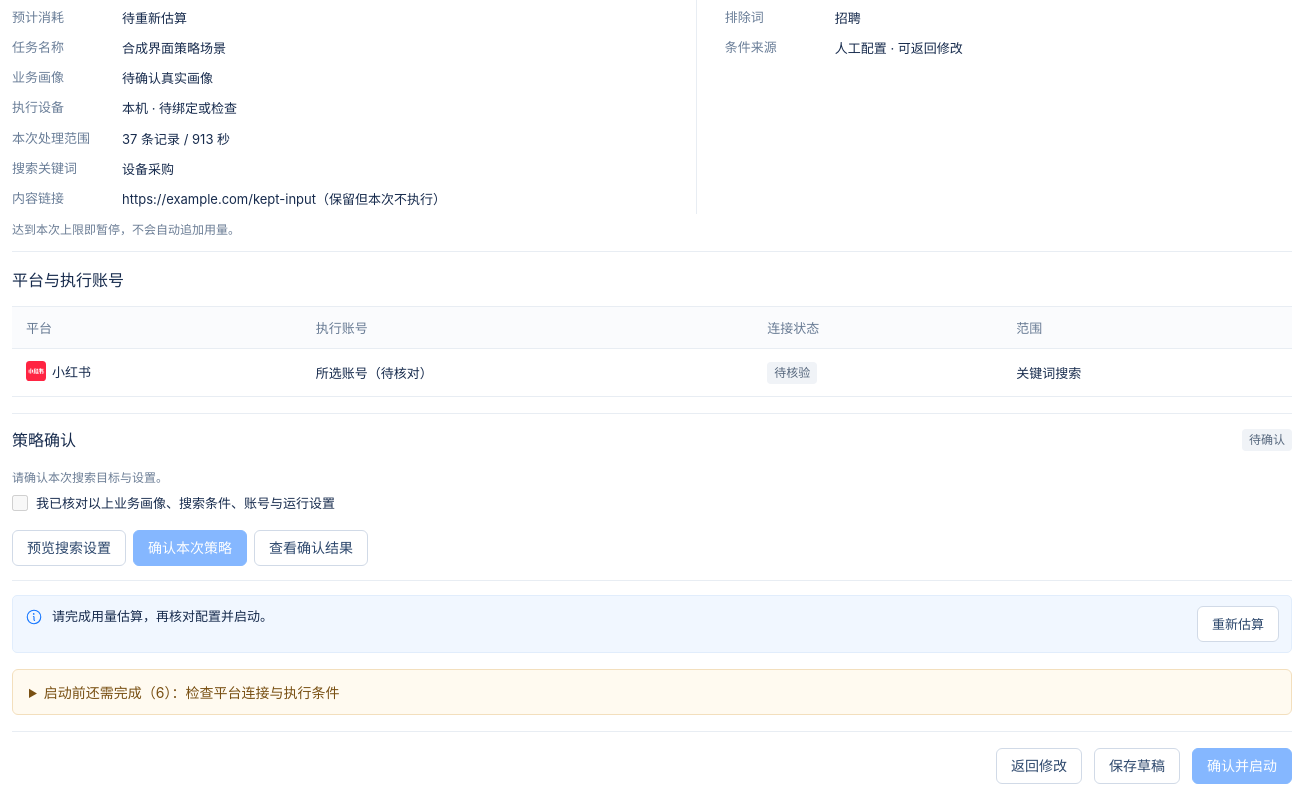
Test: TaskWizard strategy confirmation with the actual controller › estimates the actual confirmed strategy through the real quote service without persisting its token
(page scrolled)
Click the button "重新估算" at (1238, 624), box [1197, 606, 1279, 642]
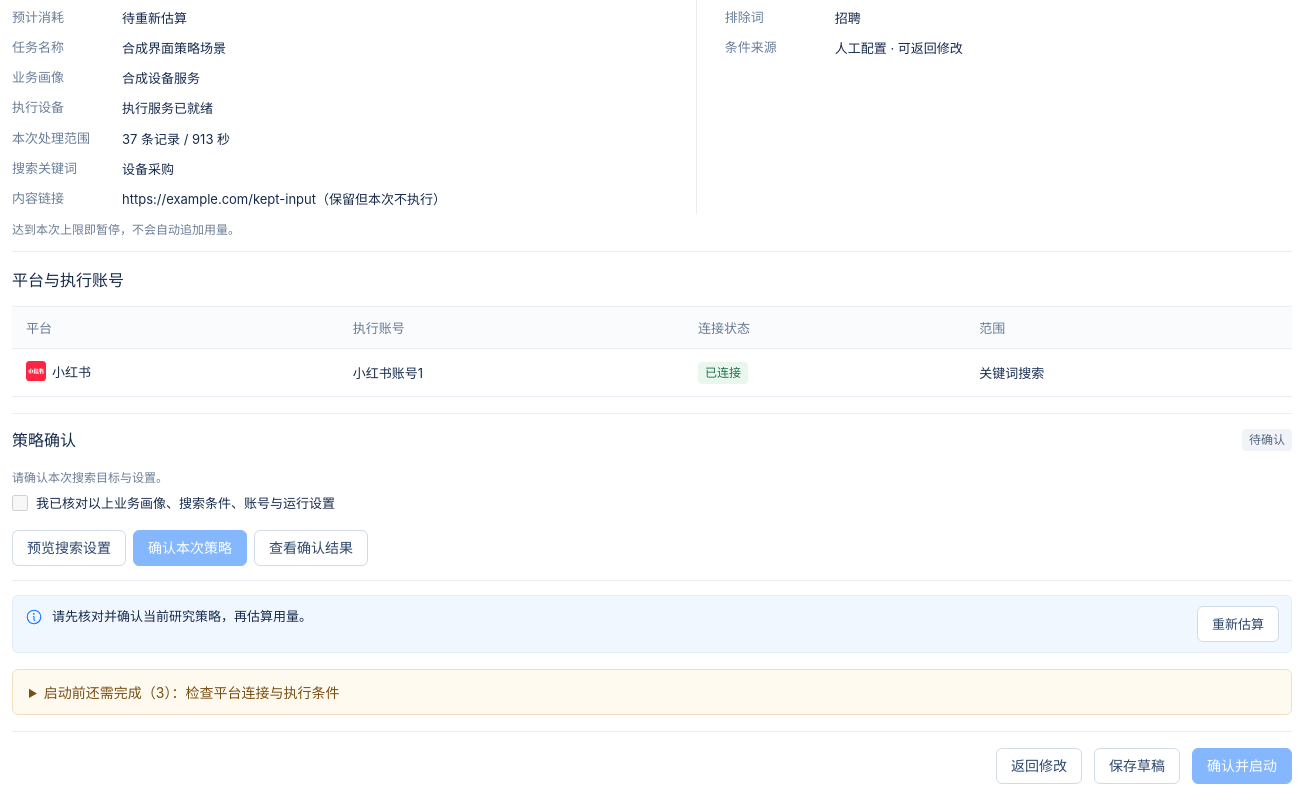
Expected: the text "请先核对并确认当前研究策略，再估算用量。" is shown, [52, 608, 312, 624]
Click the button "预览搜索设置" at (69, 548), box [12, 530, 126, 566]
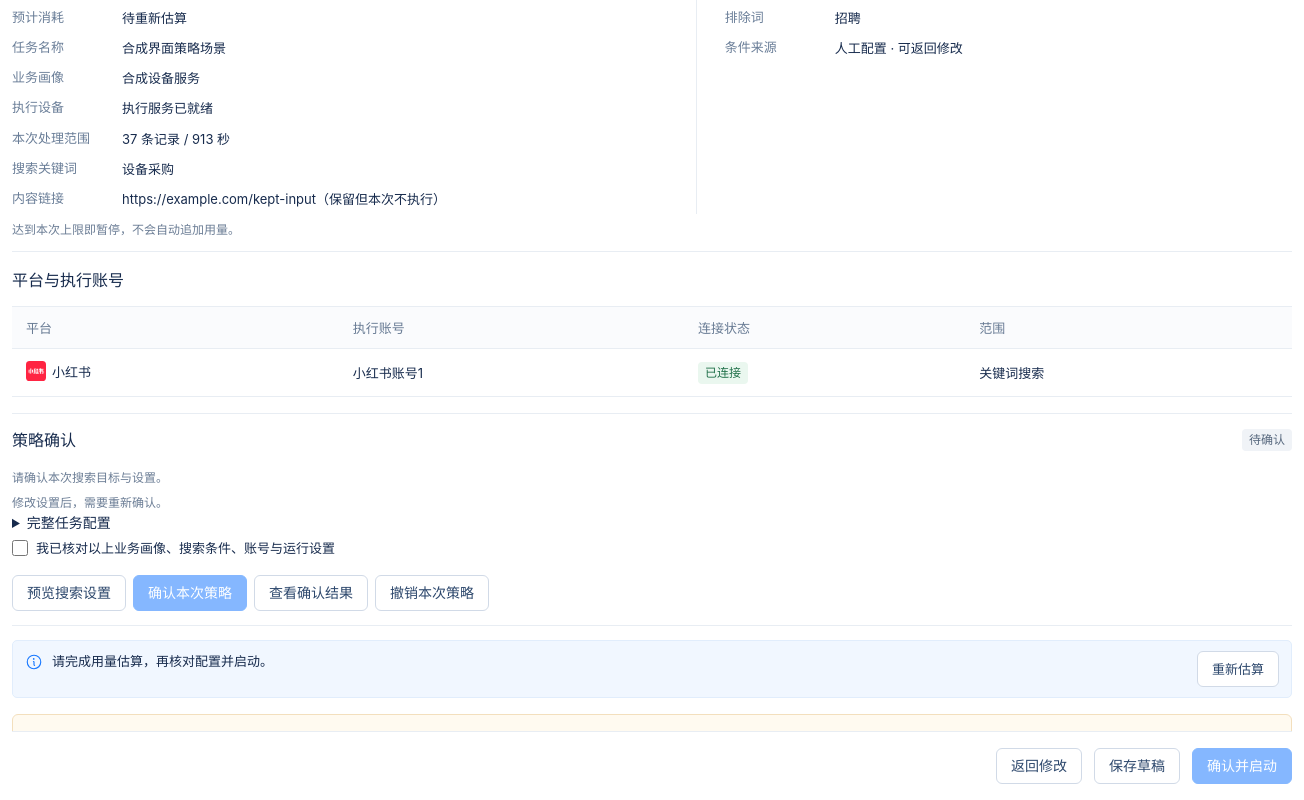
Expected: the button "确认本次策略" is disabled, [133, 575, 247, 611]
Expected: the heading "完整任务配置" is shown, [27, 514, 111, 531]
Click the checkbox labelled "我已核对以上业务画像、搜索条件、账号与运行设置" at (20, 548), box [12, 540, 28, 556]
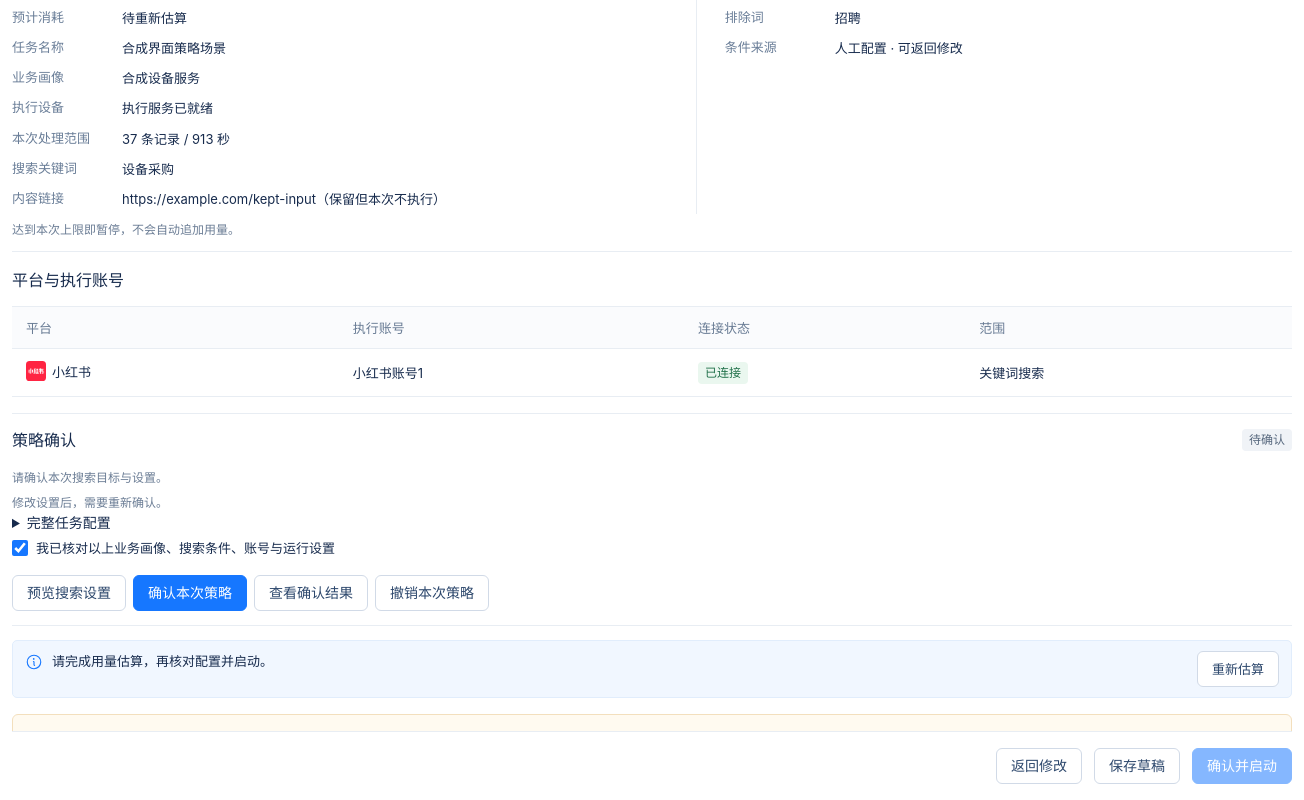
Expected: the button "确认本次策略" is enabled
Click the button "确认本次策略" at (190, 593), box [133, 575, 247, 611]
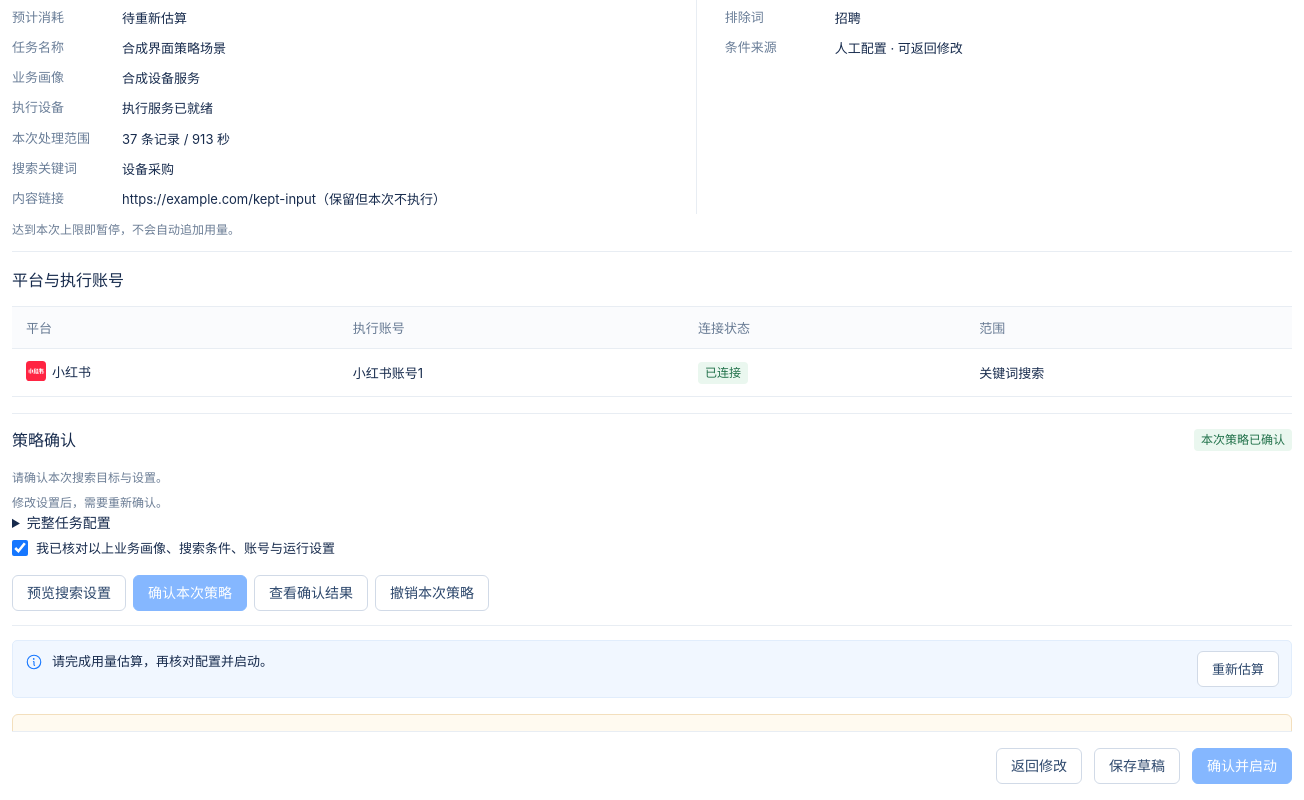
Expected: the button "确认并启动" is disabled, [1192, 748, 1292, 784]
Expected: the text "本次策略已确认" is shown, [1194, 429, 1292, 451]
Click the button "重新估算" at (1238, 669), box [1197, 651, 1279, 687]
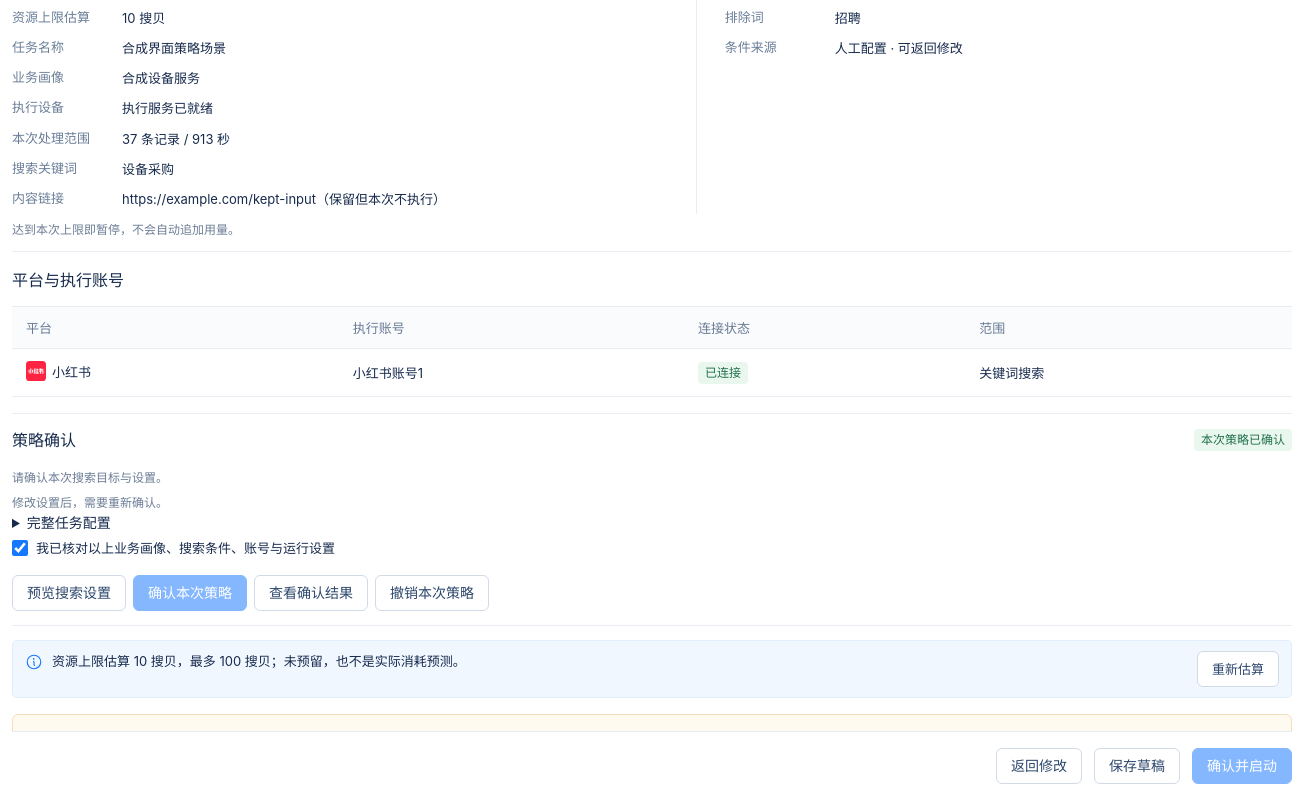
Expected: the button "确认并启动" is disabled, [1192, 748, 1292, 784]
Expected: the text "资源上限估算 10 搜贝，最多 100 搜贝；未预留，也不是实际消耗预测。" is shown, [52, 653, 466, 669]
